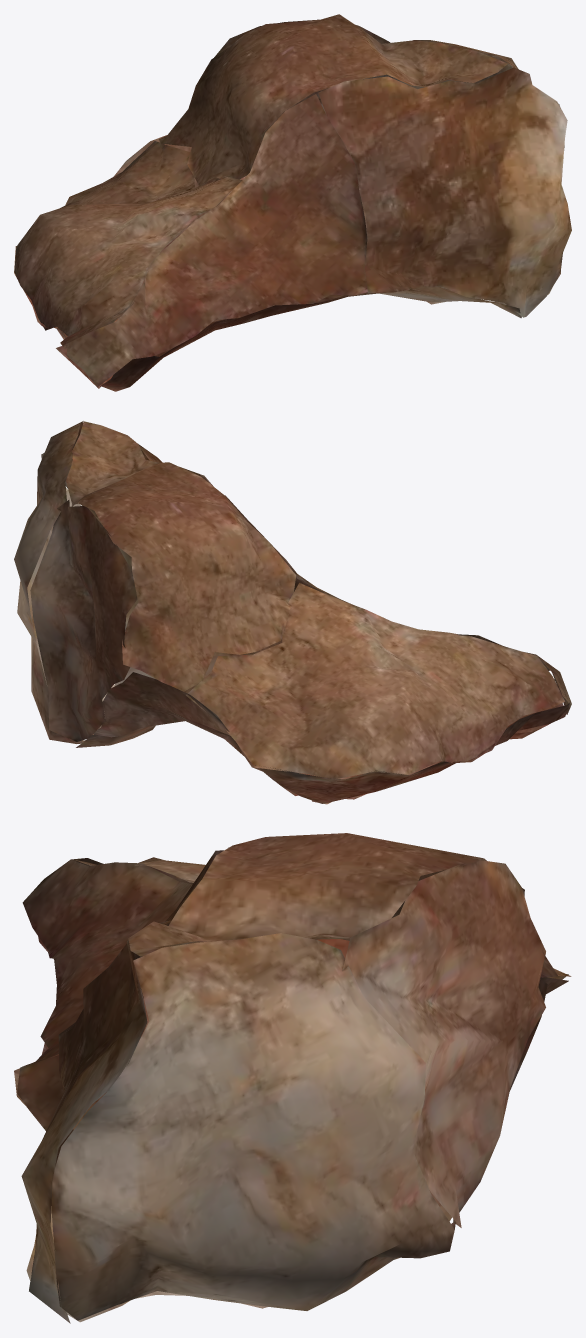
The model's file is stones.glb.
3 views of the same model, one above another, from view 1: azimuth 30°, elevation 25°; view 2: azimuth 150°, elevation 25°; view 3: azimuth 270°, elevation 25° (orthographic). The views are drawn at different scales.
Visible parts, largest first — view 1: stones_v0_lod0; view 2: stones_v0_lod0; view 3: stones_v0_lod0.
Boxes of the visible parts, x1=… form: stones_v0_lod0: x1=14, y1=14, x2=571, y2=391; stones_v0_lod0: x1=14, y1=421, x2=571, y2=804; stones_v0_lod0: x1=14, y1=833, x2=571, y2=1323.
Size of what is drawn, in the model's own units: 0.1472 by 0.0712 by 0.0888.
1 material, 1 textured.
